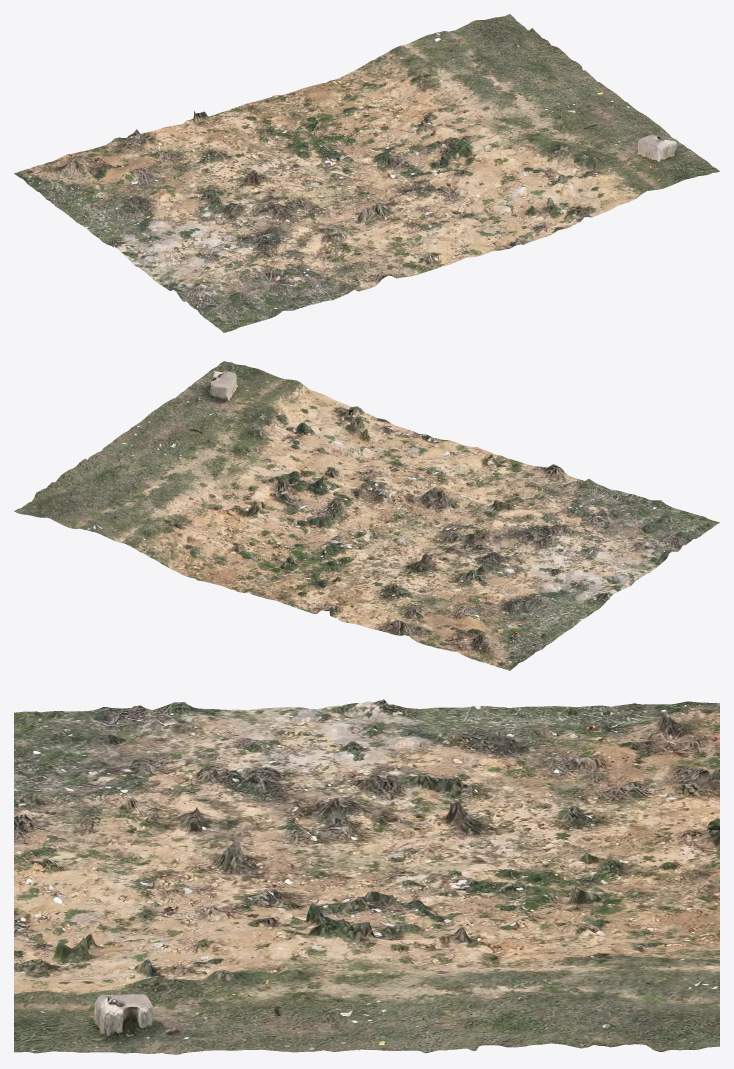
The model's file is BlockYXBX_L21_19.glb.
3 renders of one model, top to bottom at view 1: azimuth 30°, elevation 25°; view 2: azimuth 150°, elevation 25°; view 3: azimuth 270°, elevation 25°, orthographic. The views are drawn at different scales.
Visible parts, largest first — view 1: rtc; view 2: rtc; view 3: rtc.
Part boxes in pixels (bbox=[...]): rtc: bbox=[14, 14, 719, 332]; rtc: bbox=[14, 361, 719, 670]; rtc: bbox=[14, 699, 719, 1054].
Bounding box in the file's own units: 21.33 × 2.42 × 15.64.
Materials: 4 (4 with a texture image).
